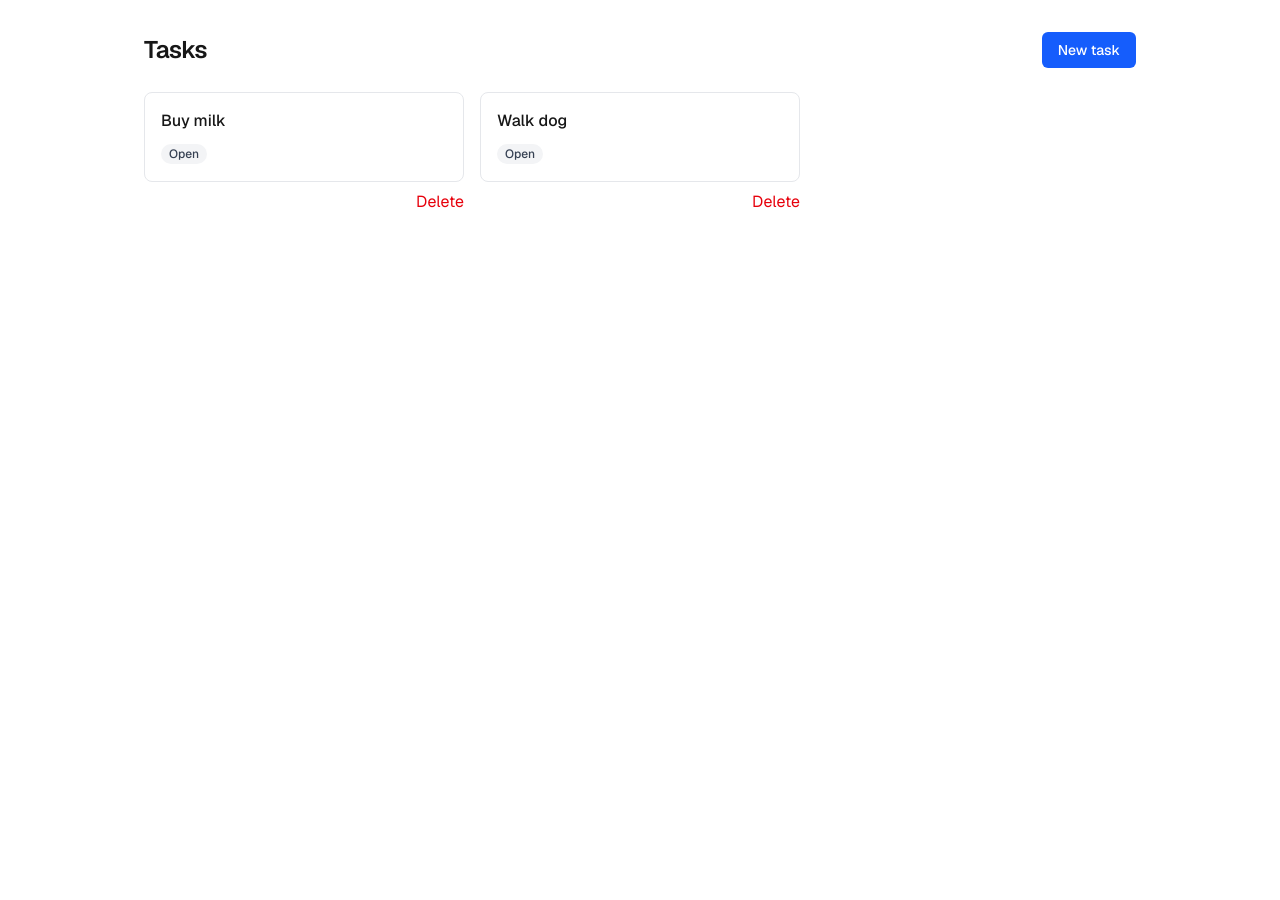
Test: TasksView optimistic delete wiring › lets a user delete a task from the list with immediate removal and a success toast
Click the button with aria-label "delete task": (440, 202) [416, 190, 464, 214]
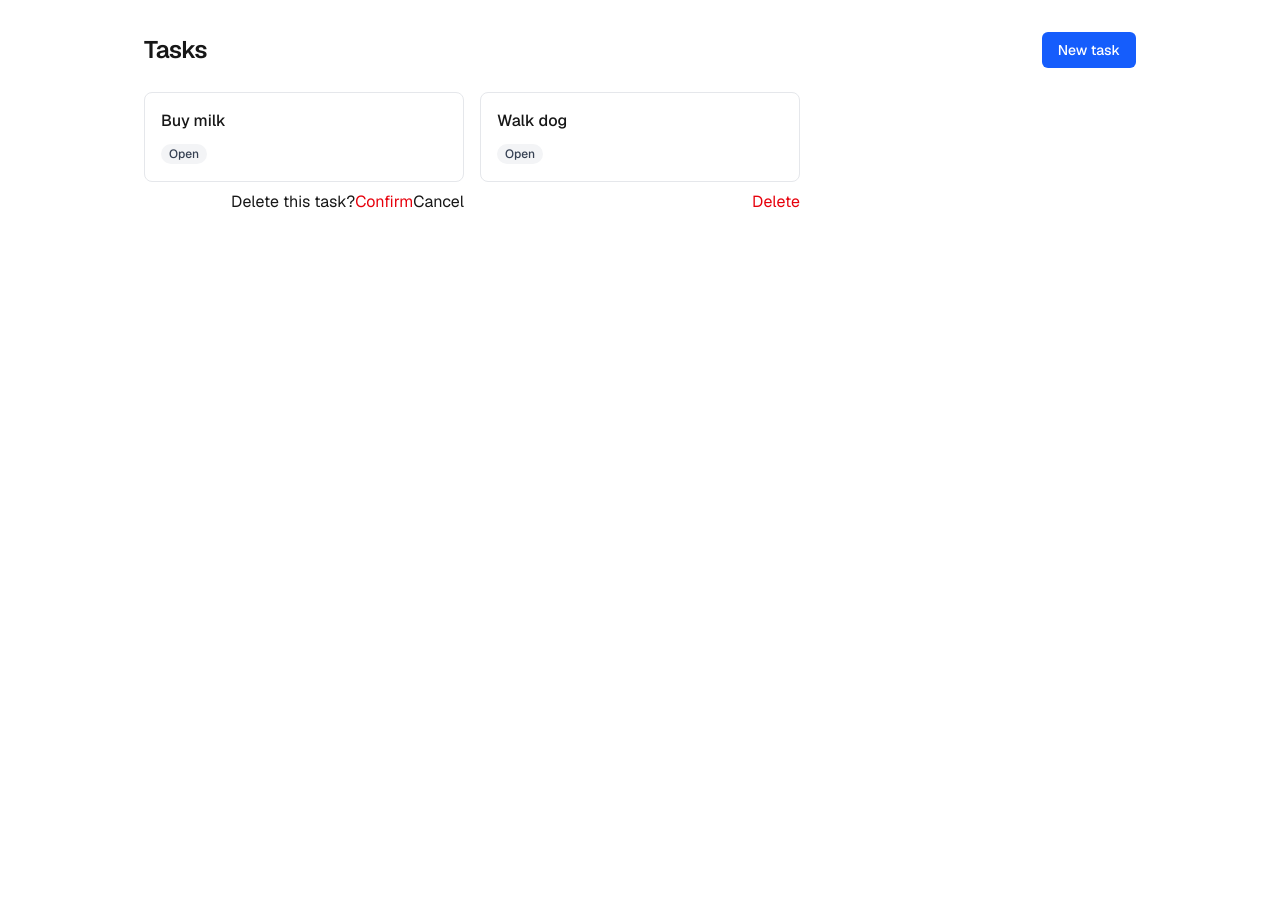
Click the button "Confirm": (384, 202) [355, 190, 413, 214]
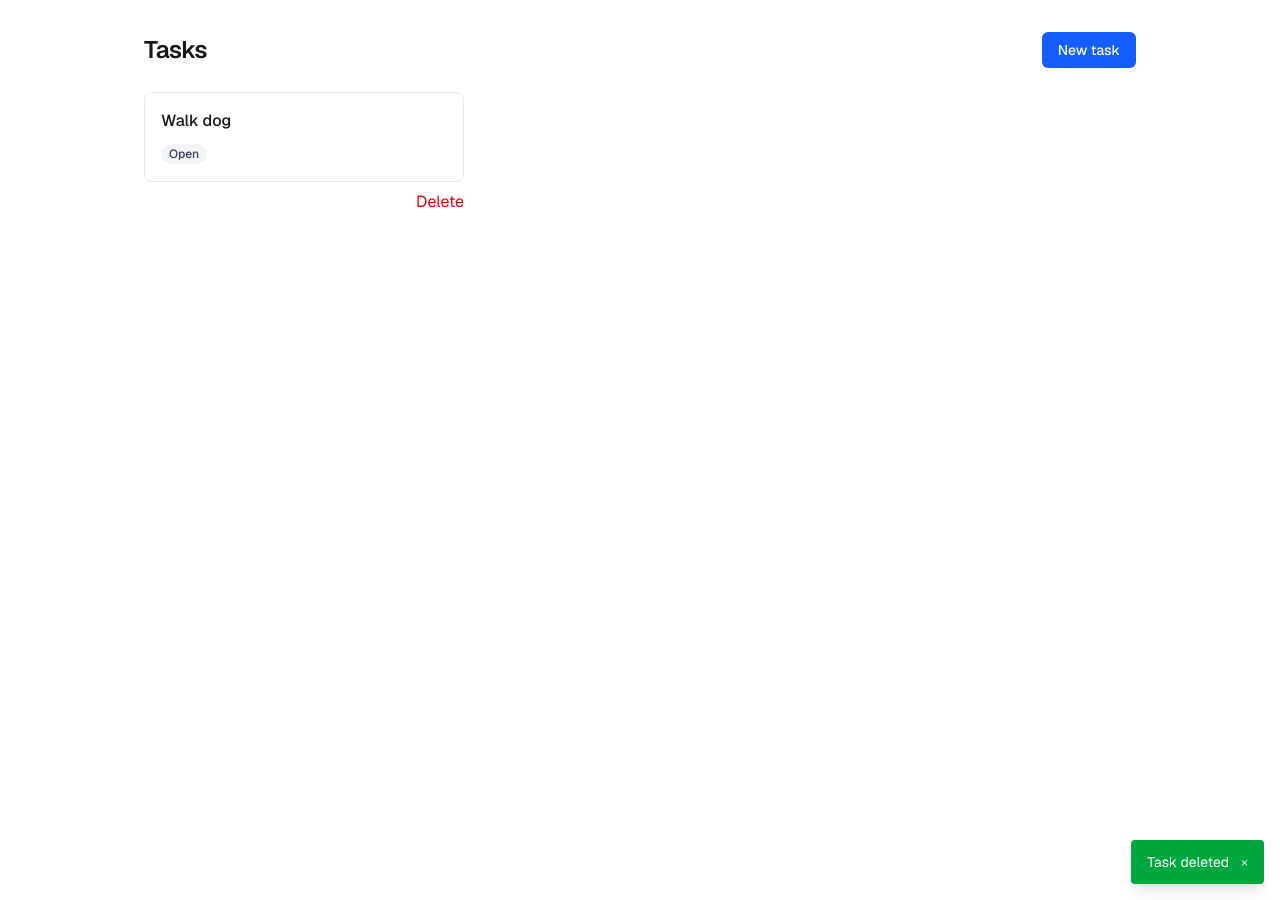
Expected: the text "Walk dog" is shown, [161, 110, 231, 131]
Now the link "Buy milk" is gone
Now the message shows "Task deleted", box [1147, 853, 1229, 871]
